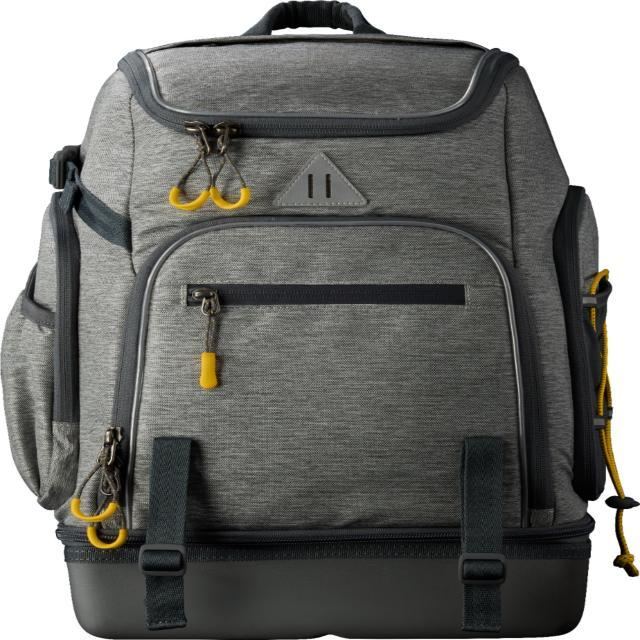Backpacks: (8, 0, 640, 640)
